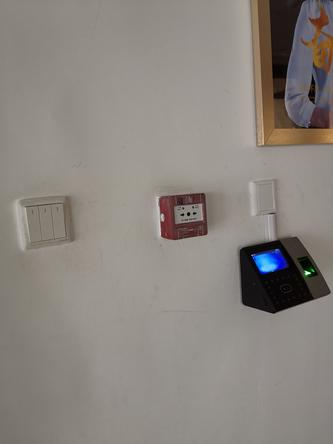switch: (49, 199, 69, 240), (24, 202, 43, 242), (36, 202, 56, 240)
